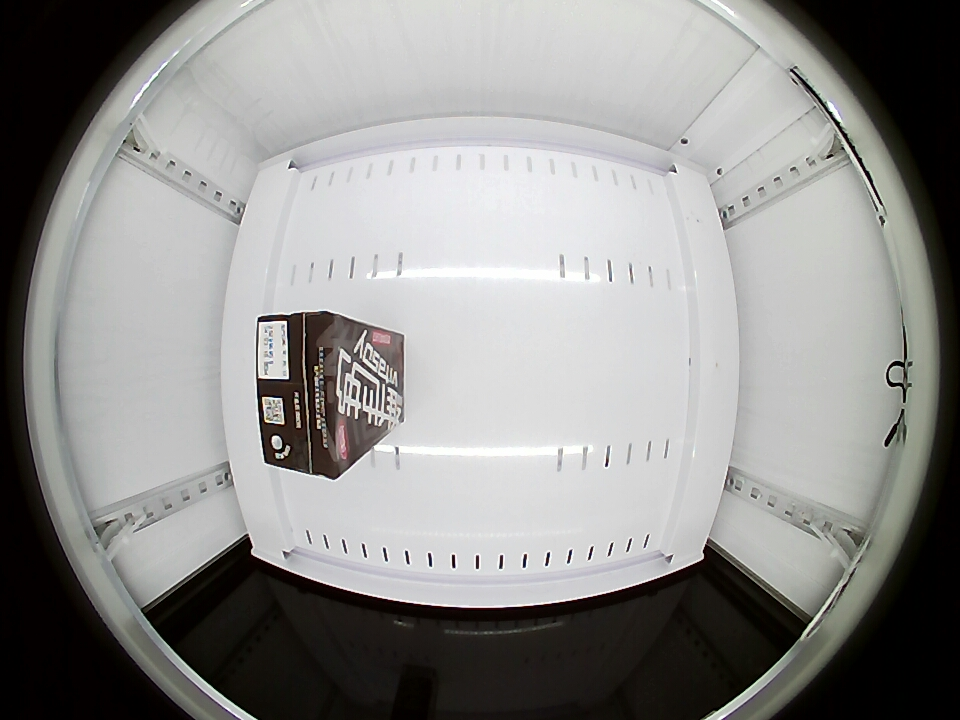weitanai2: (257, 311, 367, 480)
